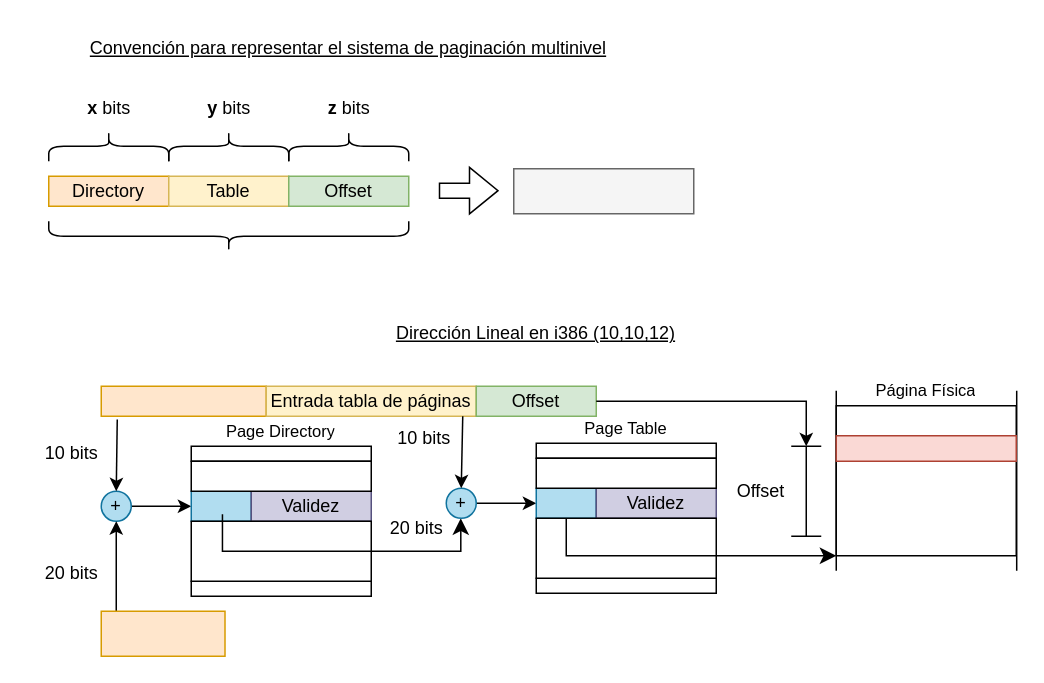
Some shapes in this 1044 by 683 pixel diagram are drawn without their labels. The shapes that lost their labels are listed below. From the top down, each one's centre as x and y in pixels, then its label:
At (603,190): "Esquema (x,y,z)".
At (228,235): "32 bits".
At (183,400): "Entrada Directorio".
At (220,505): "Base".
At (565,502): "PFN".
At (162,633): "CR3 - Base del page directory".
